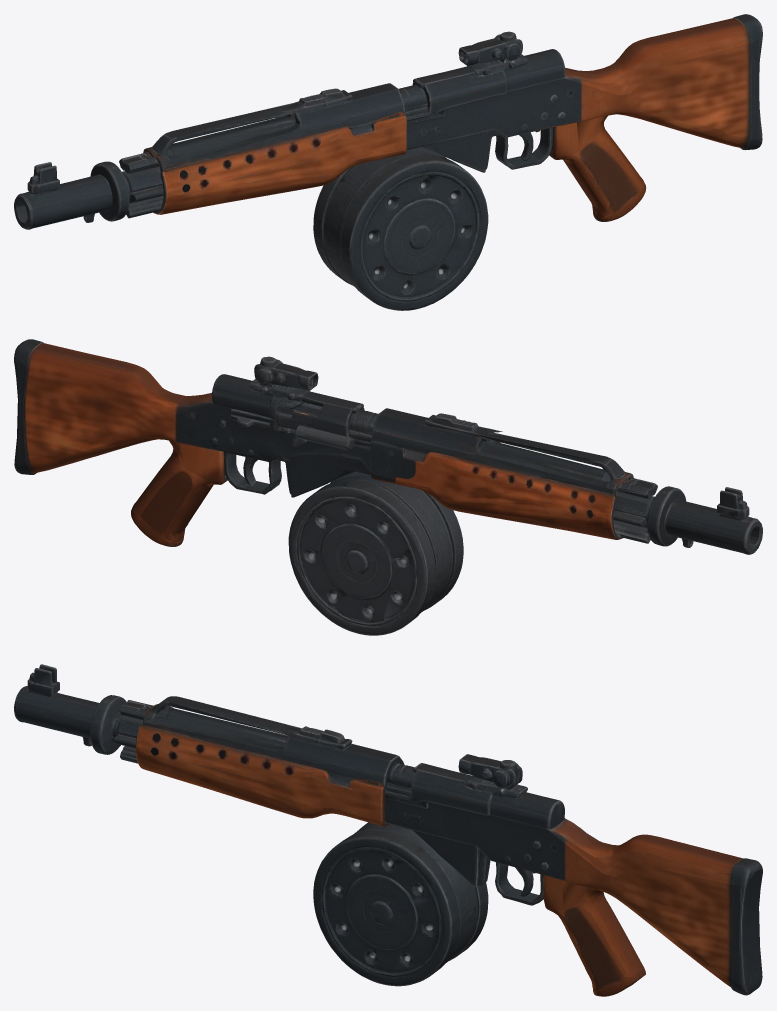
The model's file is ppsh.glb.
3 views of the same model, one above another, from view 1: azimuth 30°, elevation 25°; view 2: azimuth 150°, elevation 25°; view 3: azimuth 330°, elevation 25° (orthographic).
Bounding box in the file's own units: 1.9 × 0.5815 × 0.1835.
Materials: 1 (1 with a texture image).
